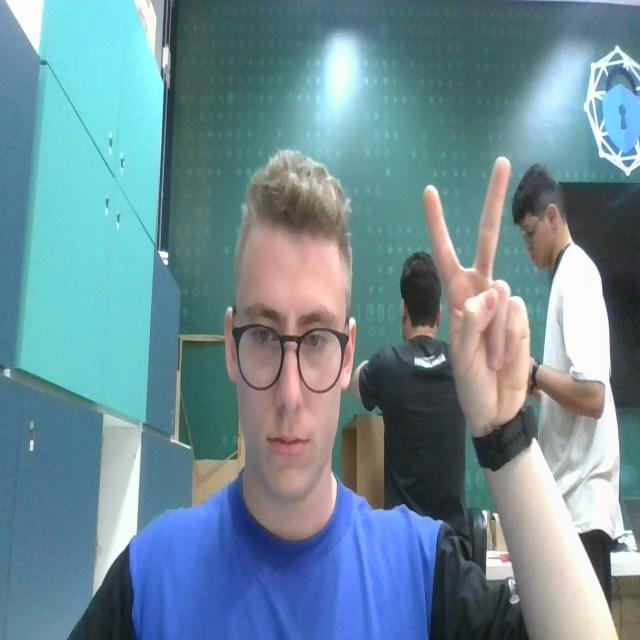V: (420, 155, 535, 416)
